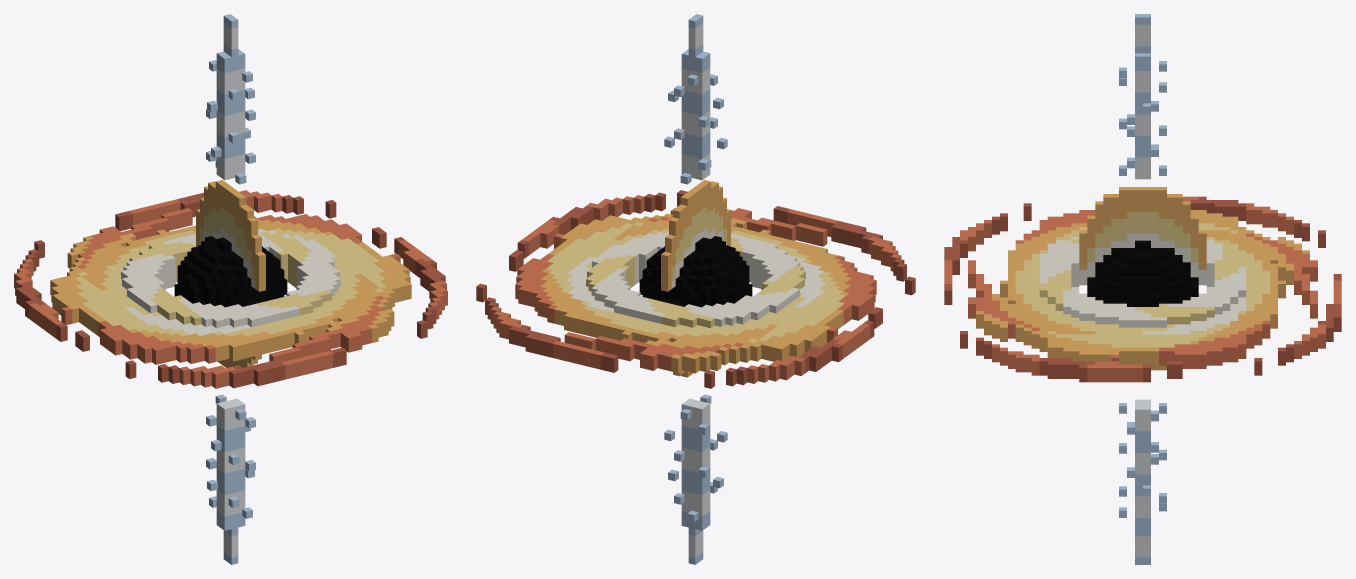
Rendered from BlackHoletrial.glb.
3 views of the same model, side by side, from view 1: azimuth 30°, elevation 25°; view 2: azimuth 150°, elevation 25°; view 3: azimuth 270°, elevation 25° (orthographic).
Visible parts, largest first — view 1: DiscB, Rim, DiscA, JetDown, JetUp, Core, Core_Glow; view 2: DiscB, Rim, DiscA, Core, JetDown, JetUp, Core_Glow; view 3: DiscB, Rim, DiscA, Core_Glow, Core, JetDown, JetUp.
Part boxes in pixels (bbox=[...]): DiscB: bbox=[50, 208, 411, 364]; Rim: bbox=[14, 190, 447, 388]; DiscA: bbox=[121, 232, 340, 328]; JetDown: bbox=[206, 394, 255, 564]; JetUp: bbox=[206, 14, 255, 184]; Core: bbox=[174, 236, 287, 307]; Core_Glow: bbox=[196, 180, 265, 367]; DiscB: bbox=[515, 208, 876, 373]; Rim: bbox=[476, 190, 915, 388]; DiscA: bbox=[586, 232, 805, 328]; Core: bbox=[639, 236, 752, 307]; JetDown: bbox=[664, 394, 727, 564]; JetUp: bbox=[664, 14, 727, 184]; Core_Glow: bbox=[661, 180, 730, 377]; DiscB: bbox=[968, 210, 1317, 368]; Rim: bbox=[944, 196, 1341, 382]; DiscA: bbox=[1039, 239, 1246, 327]; Core_Glow: bbox=[1079, 187, 1206, 370]; Core: bbox=[1087, 240, 1198, 306]; JetDown: bbox=[1119, 399, 1166, 564]; JetUp: bbox=[1119, 14, 1166, 179].
Bounding box in the file's own units: 12.75 × 19 × 12.5.
